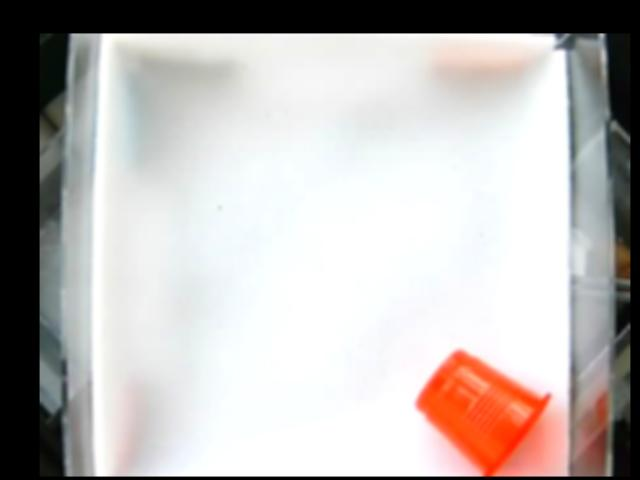Cup: (412, 348, 556, 476)
